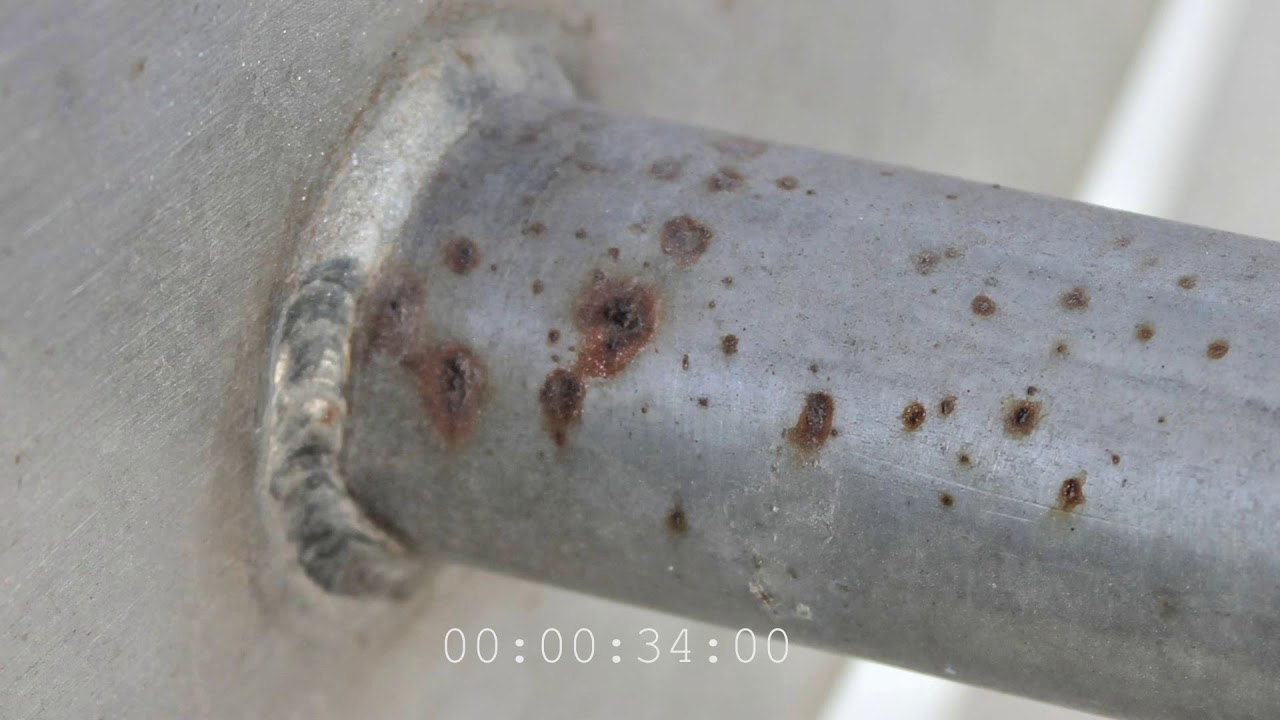Low: (360, 159, 847, 481), (894, 218, 1235, 523)
